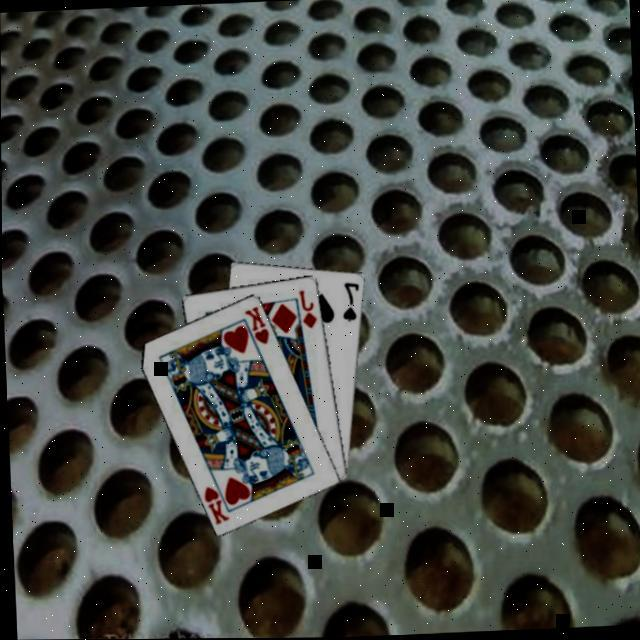7S: (338, 277, 364, 322)
JD: (296, 284, 320, 329)
KH: (200, 480, 232, 524), (242, 300, 272, 346)
